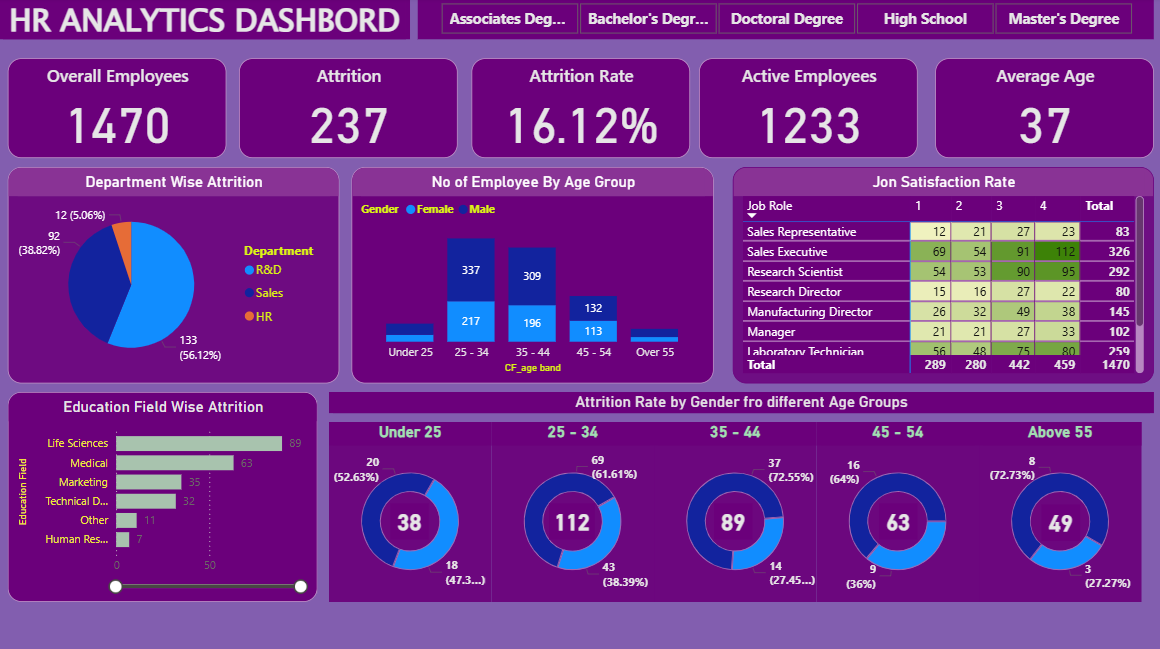

This screenshot's page, from the dashboard's own definition file:
{"tool":"powerbi","page":{"name":"Page 1","canvas":[1280,720],"ordinal":0},"visuals":[{"type":"card","title":"Overall Employees","fields":{"Values":["Sum(HR data.Employee Count)"]},"box":[9.6,67.2,240.1,109.8],"z":0},{"type":"card","title":"Attrition ","fields":{"Values":["Sum(HR data.Attrition Count)"]},"box":[263.5,67.2,240.1,109.8],"z":1000},{"type":"card","title":"Attrition Rate","fields":{"Values":["HR data.Attrition Rate"]},"box":[518.7,67.2,240.1,109.8],"z":2000},{"type":"card","title":"Active Employees","fields":{"Values":["HR data.Active Employees"]},"box":[768.4,67.2,240.1,109.8],"z":3000},{"type":"card","title":"Average Age","fields":{"Values":["Avg(HR data.Age)"]},"box":[1027.8,67.2,240.1,109.8],"z":4000},{"type":"pieChart","title":"Department Wise Attrition ","fields":{"Category":["HR data.Department"],"Y":["Sum(HR data.Attrition Count)"]},"box":[9.6,186.6,363.6,237.4],"z":5000},{"type":"columnChart","title":"No of Employee By Age Group","fields":{"Category":["HR data.CF_age band"],"Series":["HR data.Gender"],"Y":["Sum(HR data.Employee Count)"]},"box":[387,186.6,397.9,237.4],"z":6000},{"type":"pivotTable","title":"Jon Satisfaction Rate","fields":{"Rows":["HR data.Job Role"],"Columns":["HR data.Job Satisfaction"],"Values":["Sum(HR data.Employee Count)"]},"box":[805.5,186.6,462.4,237.4],"z":7000},{"type":"barChart","title":"Education Field Wise Attrition","fields":{"Category":["HR data.Education Field"],"Y":["Sum(HR data.Attrition Count)"]},"box":[10,434,340,230],"z":8000},{"type":"donutChart","title":"Under 25","fields":{"Category":["HR data.Gender"],"Y":["Sum(HR data.Attrition Count)"],"Series":["HR data.CF_age band"]},"box":[362.3,466.6,178.4,197.6],"z":9000},{"type":"textbox","title":"Attrition Rate by Gender fro different Age Groups","box":[362.3,433.6,905.7,23.3],"z":10000},{"type":"donutChart","title":"25 - 34","fields":{"Category":["HR data.Gender"],"Y":["Sum(HR data.Attrition Count)"],"Series":["HR data.CF_age band"]},"box":[540.7,466.6,178.4,197.6],"z":11000},{"type":"donutChart","title":"35 - 44","fields":{"Category":["HR data.Gender"],"Y":["Sum(HR data.Attrition Count)"],"Series":["HR data.CF_age band"]},"box":[719,466.6,178.4,197.6],"z":12000},{"type":"donutChart","title":"45 - 54","fields":{"Category":["HR data.Gender"],"Y":["Sum(HR data.Attrition Count)"],"Series":["HR data.CF_age band"]},"box":[897.4,466.6,178.4,197.6],"z":13000},{"type":"donutChart","title":"Above 55","fields":{"Category":["HR data.Gender"],"Y":["Sum(HR data.Attrition Count)"],"Series":["HR data.CF_age band"]},"box":[1075.8,466.6,178.4,197.6],"z":14000},{"type":"card","fields":{"Values":["Sum(HR data.Attrition Count)"]},"box":[429.5,555.7,42.5,39.8],"z":15000},{"type":"card","fields":{"Values":["Sum(HR data.Attrition Count)"]},"box":[603.8,555.7,50.8,39.8],"z":16000},{"type":"card","fields":{"Values":["Sum(HR data.Attrition Count)"]},"box":[784.9,555.7,42.5,39.8],"z":17000},{"type":"card","fields":{"Values":["Sum(HR data.Attrition Count)"]},"box":[966,555.7,42.5,39.8],"z":18000},{"type":"card","fields":{"Values":["Sum(HR data.Attrition Count)"]},"box":[1144.4,557.1,42.5,39.8],"z":19000},{"type":"textbox","title":"HR ANALYTICS DASHBORD","box":[0,0,451.5,46.7],"z":20000},{"type":"slicer","fields":{"Values":["HR data.Education"]},"box":[459.7,0,808.2,46.7],"z":21000}]}

Visuals, with their boxes in screenshot pixels (x1, y1, x2, y2), scaled from the page's 1280x720 canvas onto the 1160x649 screenshot:
"Overall Employees" card: <box>9,61,226,160</box>
"Attrition " card: <box>239,61,456,160</box>
"Attrition Rate" card: <box>470,61,688,160</box>
"Active Employees" card: <box>696,61,914,160</box>
"Average Age" card: <box>931,61,1149,160</box>
"Department Wise Attrition " pieChart: <box>9,168,338,382</box>
"No of Employee By Age Group" columnChart: <box>351,168,711,382</box>
"Jon Satisfaction Rate" pivotTable: <box>730,168,1149,382</box>
"Education Field Wise Attrition" barChart: <box>9,391,317,599</box>
"Under 25" donutChart: <box>328,421,490,599</box>
"Attrition Rate by Gender fro different Age Groups" textbox: <box>328,391,1149,412</box>
"25 - 34" donutChart: <box>490,421,652,599</box>
"35 - 44" donutChart: <box>652,421,813,599</box>
"45 - 54" donutChart: <box>813,421,975,599</box>
"Above 55" donutChart: <box>975,421,1137,599</box>
card - Sum(HR data.Attrition Count): <box>389,501,428,537</box>
card - Sum(HR data.Attrition Count): <box>547,501,593,537</box>
card - Sum(HR data.Attrition Count): <box>711,501,750,537</box>
card - Sum(HR data.Attrition Count): <box>875,501,914,537</box>
card - Sum(HR data.Attrition Count): <box>1037,502,1076,538</box>
"HR ANALYTICS DASHBORD" textbox: <box>0,0,409,42</box>
slicer - HR data.Education: <box>417,0,1149,42</box>
